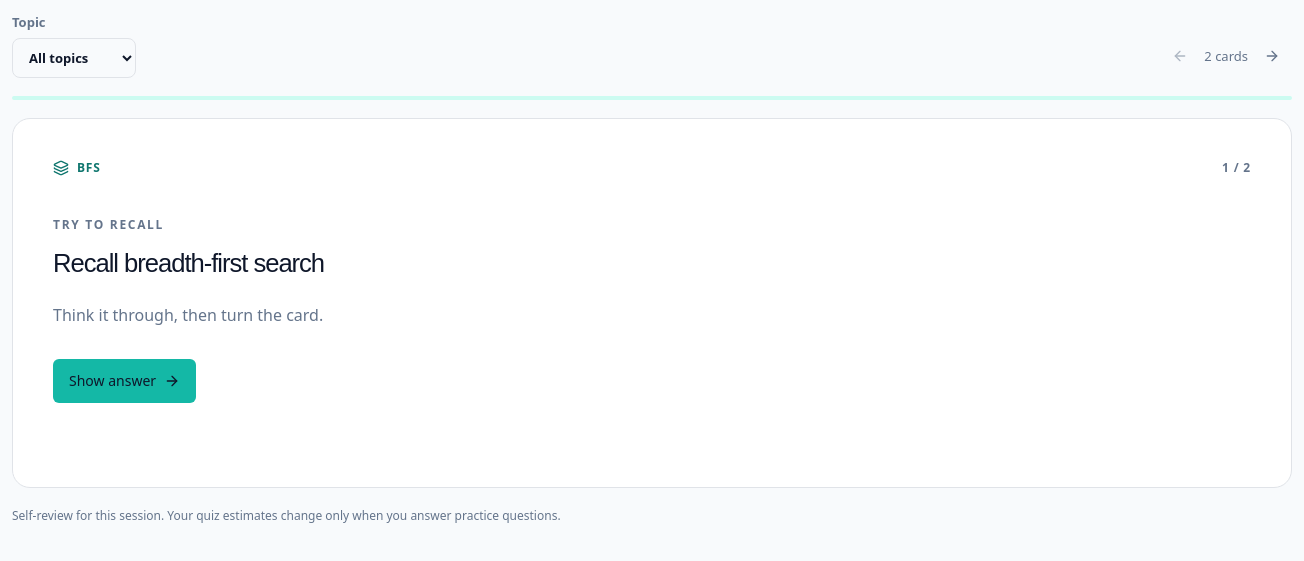
Test: browses both directions without rating skipped cards or leaving answers revealed
This screenshot has width=1304, height=561.
expect the button named "Previous card" is disabled: met, box [1160,34,1200,78]
Click the button "Show answer" at (125, 381), box [53,359,196,403]
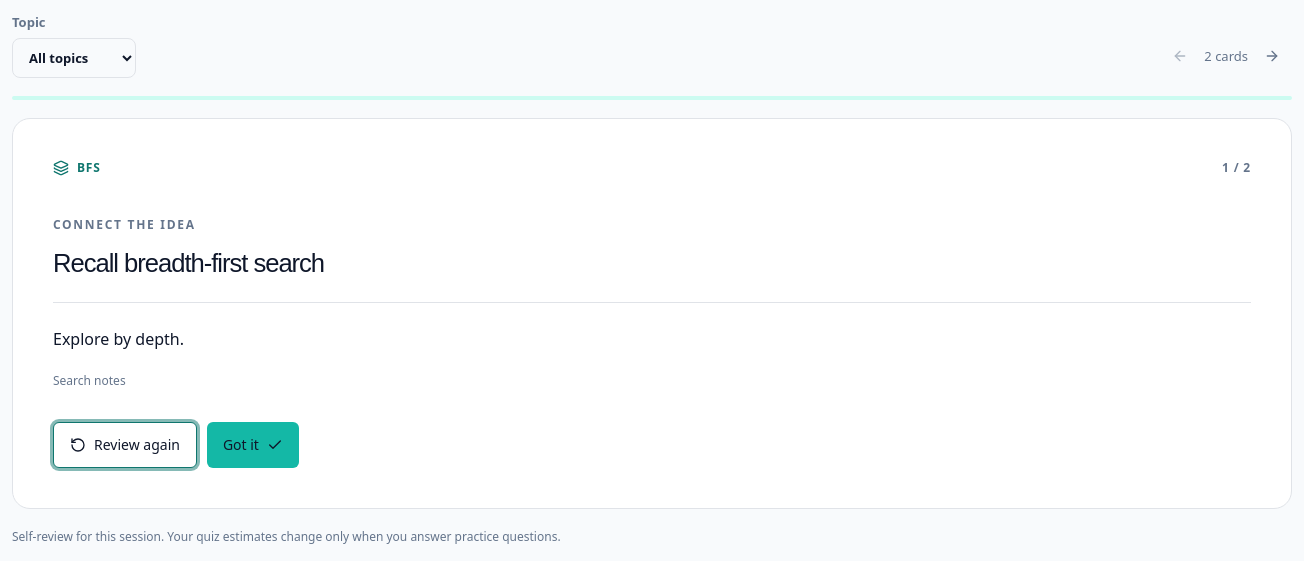
Click the button named "Next card" at (1272, 56), box [1252,34,1292,78]
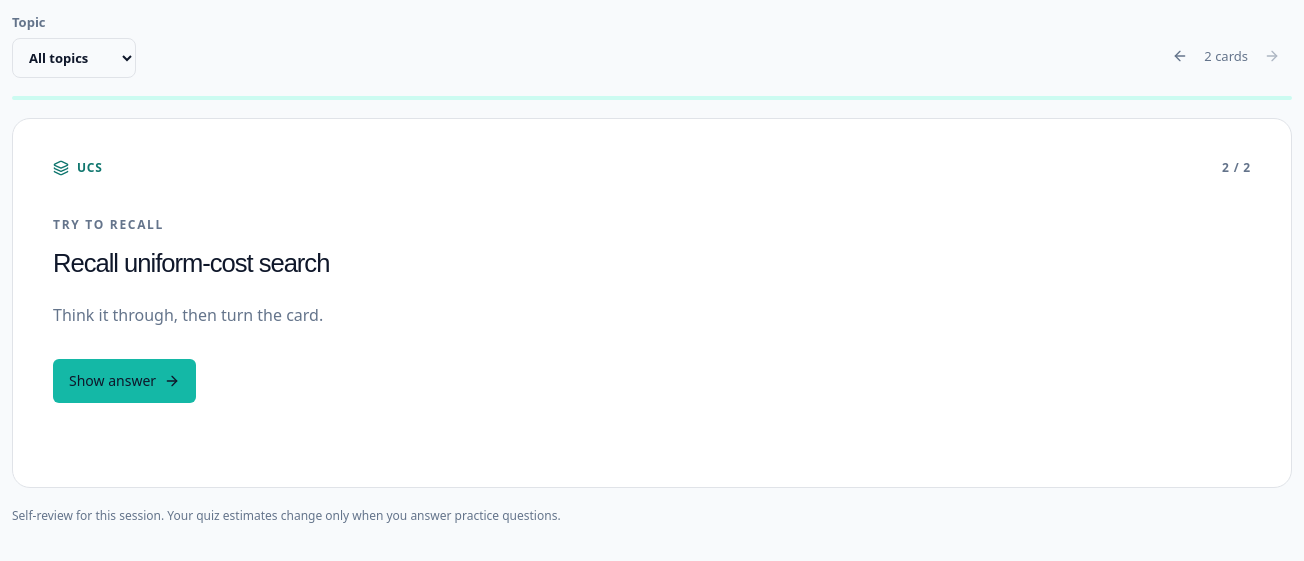
expect the heading "Recall uniform-cost search" is shown: met, box [53,249,329,277]
expect the button named "Next card" is disabled: met, box [1252,34,1292,78]
Click the button named "Previous card" at (1180, 56), box [1160,34,1200,78]
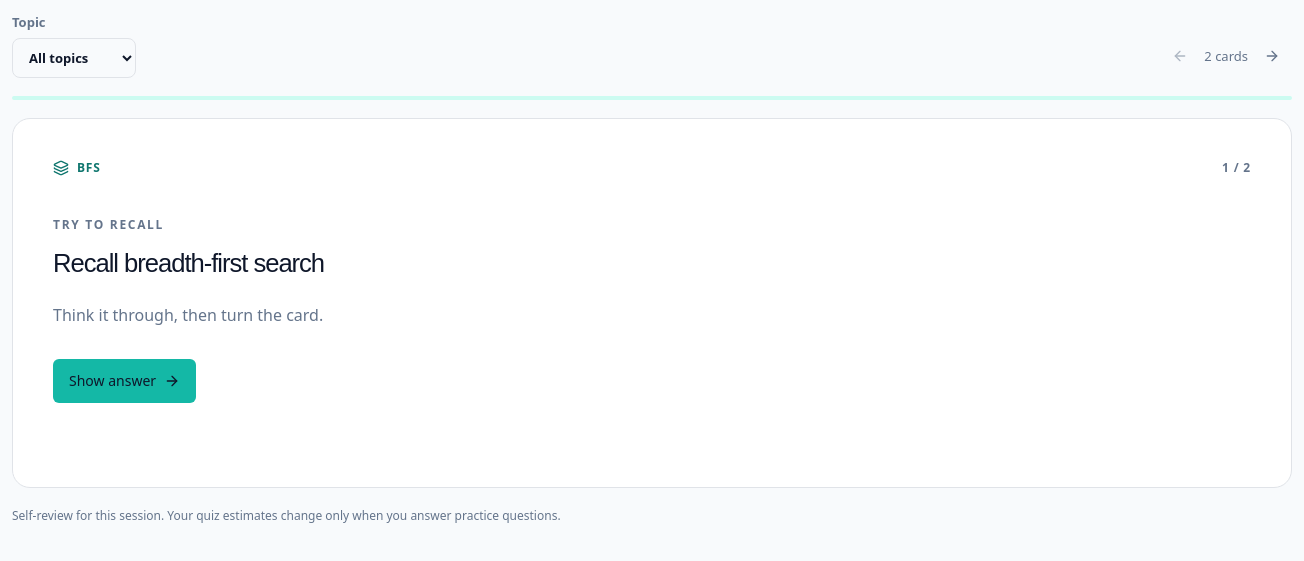
expect the heading "Recall breadth-first search" is shown: met, box [53,249,324,277]
Click the button named "Next card" at (1272, 56), box [1252,34,1292,78]
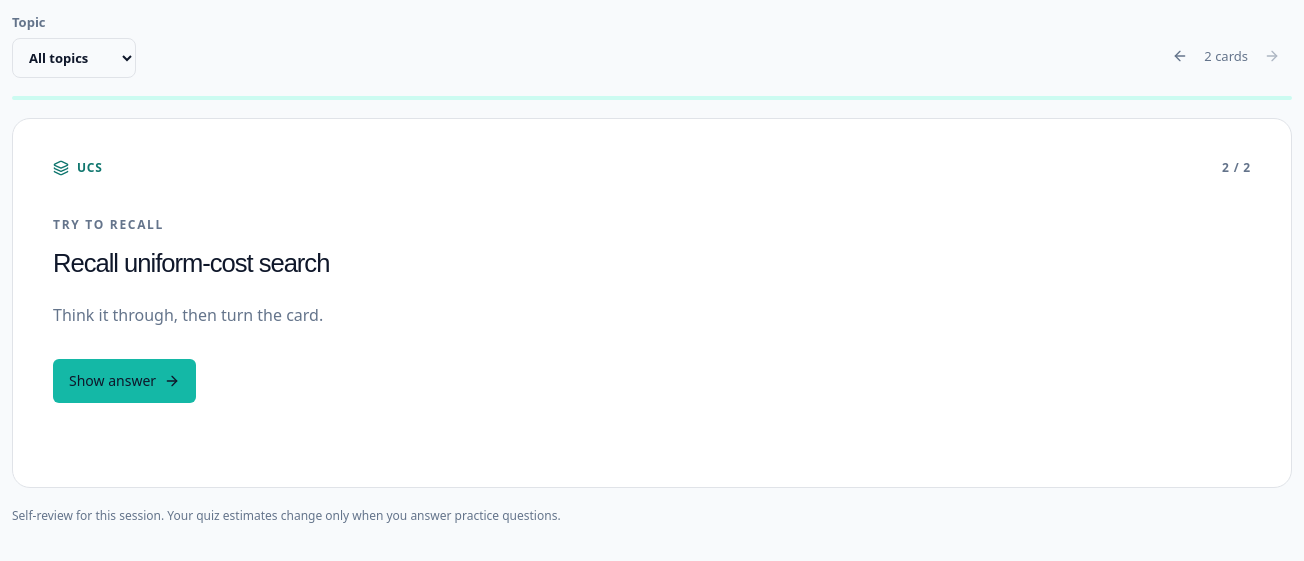
Click the button "Show answer" at (125, 381), box [53,359,196,403]
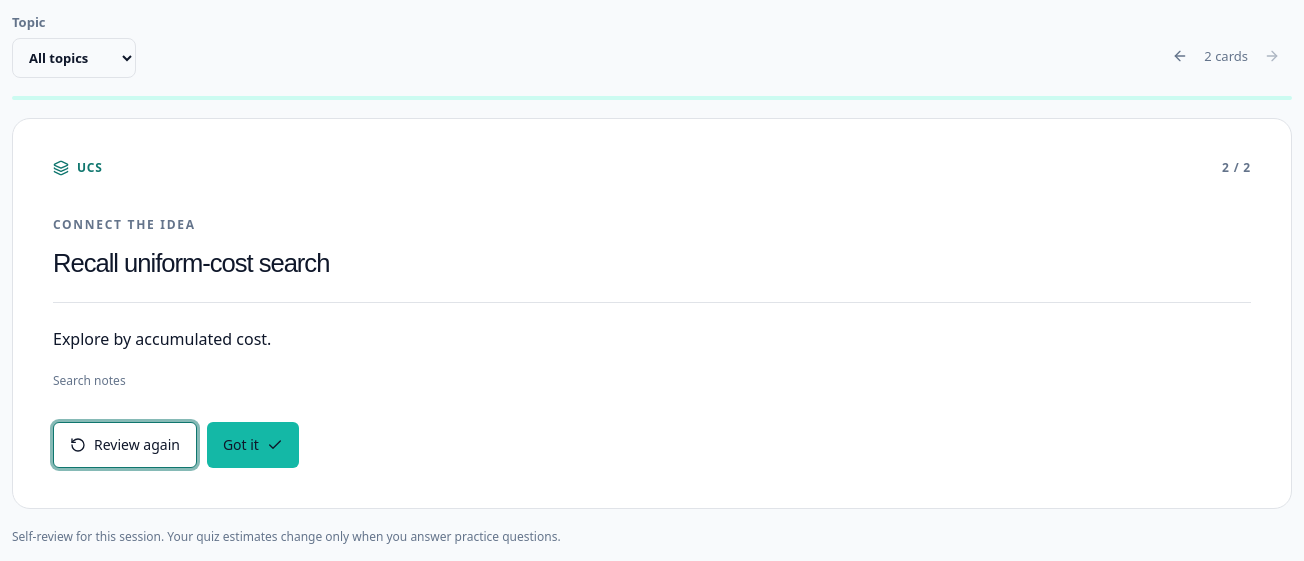
Click the button "Got it" at (253, 444), box [207,422,299,468]
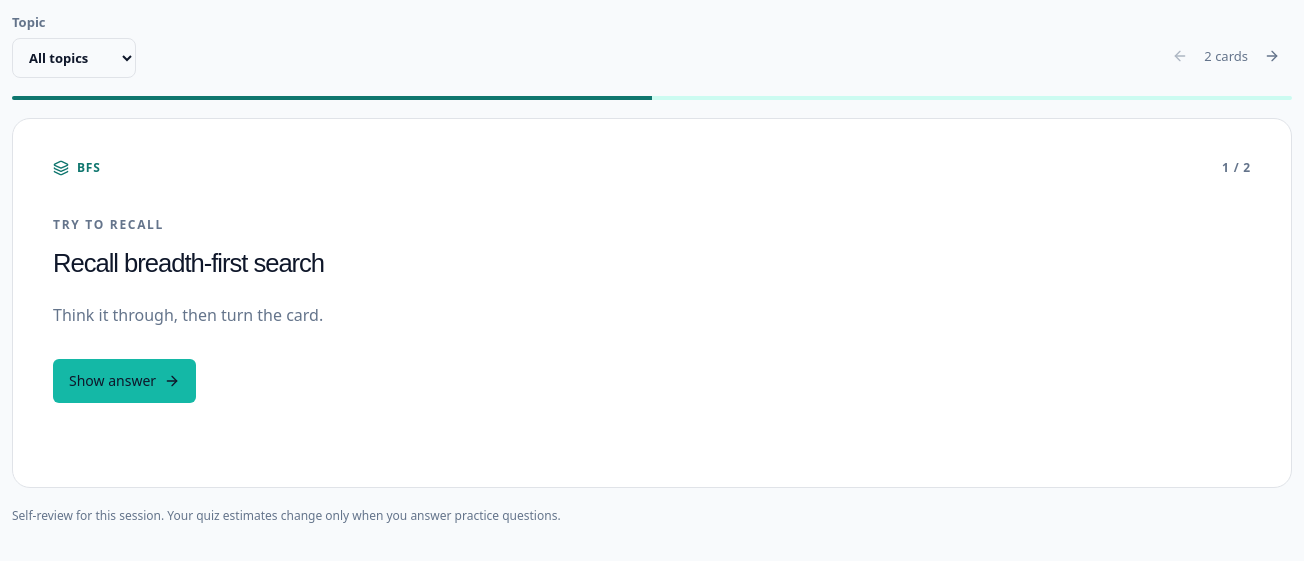
expect the heading "Recall breadth-first search" is shown: met, box [53,249,324,277]
